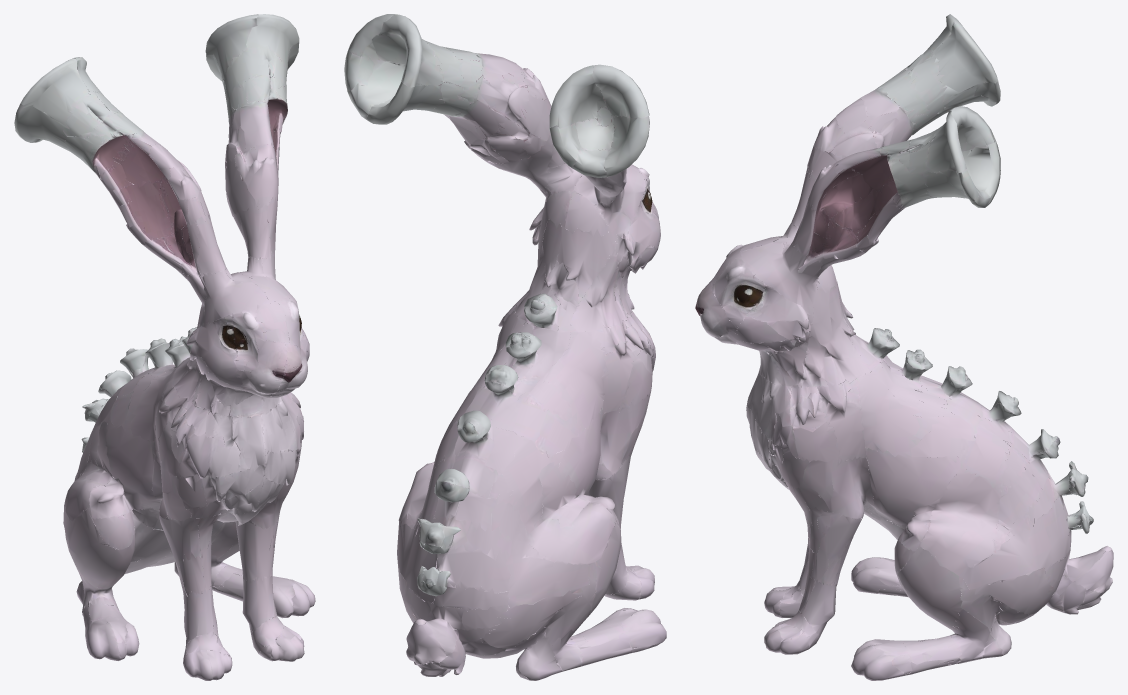
3 views of the same model, side by side, from view 1: azimuth 30°, elevation 25°; view 2: azimuth 150°, elevation 25°; view 3: azimuth 270°, elevation 25° (orthographic). The views are drawn at different scales.
Parts seen in each view (by area): view 1: Mesh_0; view 2: Mesh_0; view 3: Mesh_0.
Boxes of the visible parts, <box> form: Mesh_0: <box>14,14,315,680</box>; Mesh_0: <box>344,14,666,680</box>; Mesh_0: <box>695,14,1113,680</box>.
Bounding box in the file's own units: 0.992 × 1.9 × 1.28.
Materials: 1 (1 with a texture image).
